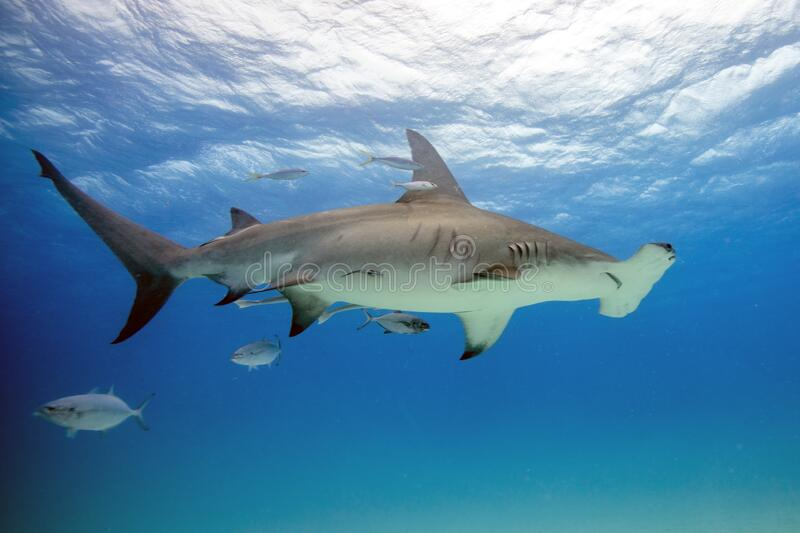Hammer: (15, 100, 702, 360)
